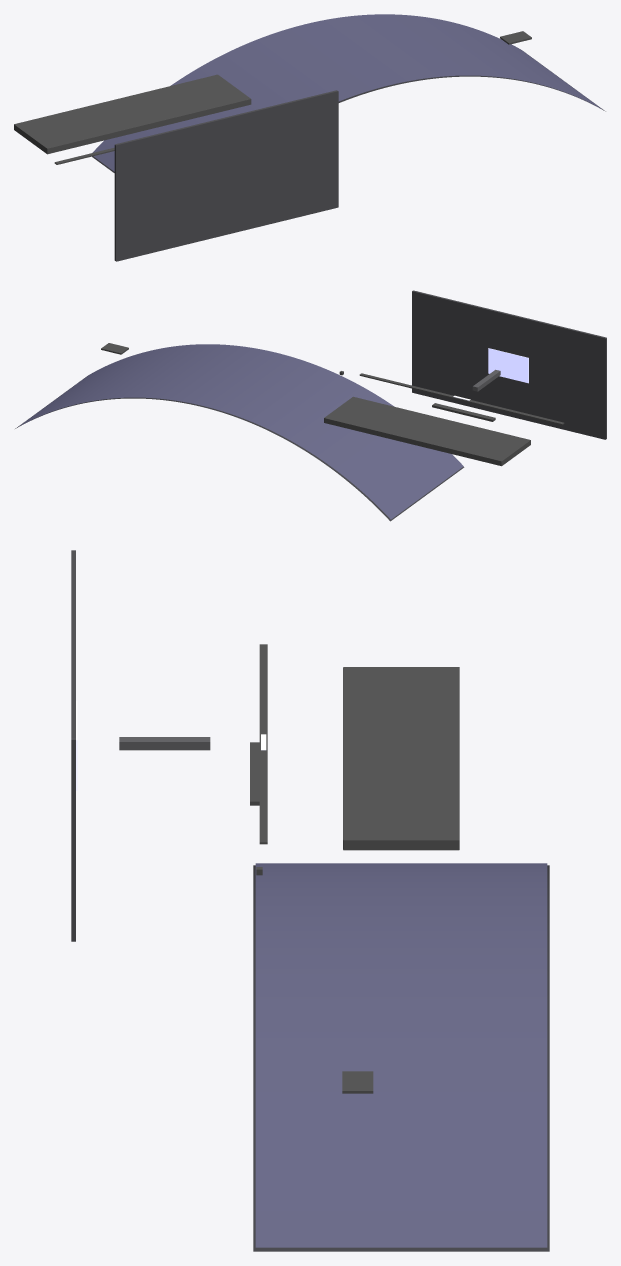
File: UltraView49.glb
3 views of the same model, one above another, from view 1: azimuth 30°, elevation 25°; view 2: azimuth 150°, elevation 25°; view 3: azimuth 270°, elevation 25° (orthographic). The views are drawn at different scales.
Visible parts, largest first — view 1: UltraView49; view 2: UltraView49; view 3: UltraView49.
Boxes of the visible parts, x1,y1,x2,y2 form: UltraView49: (14, 14, 605, 261); UltraView49: (15, 290, 606, 521); UltraView49: (71, 550, 549, 1251).
Bounding box in the file's own units: 1.42 × 0.3406 × 0.615.
